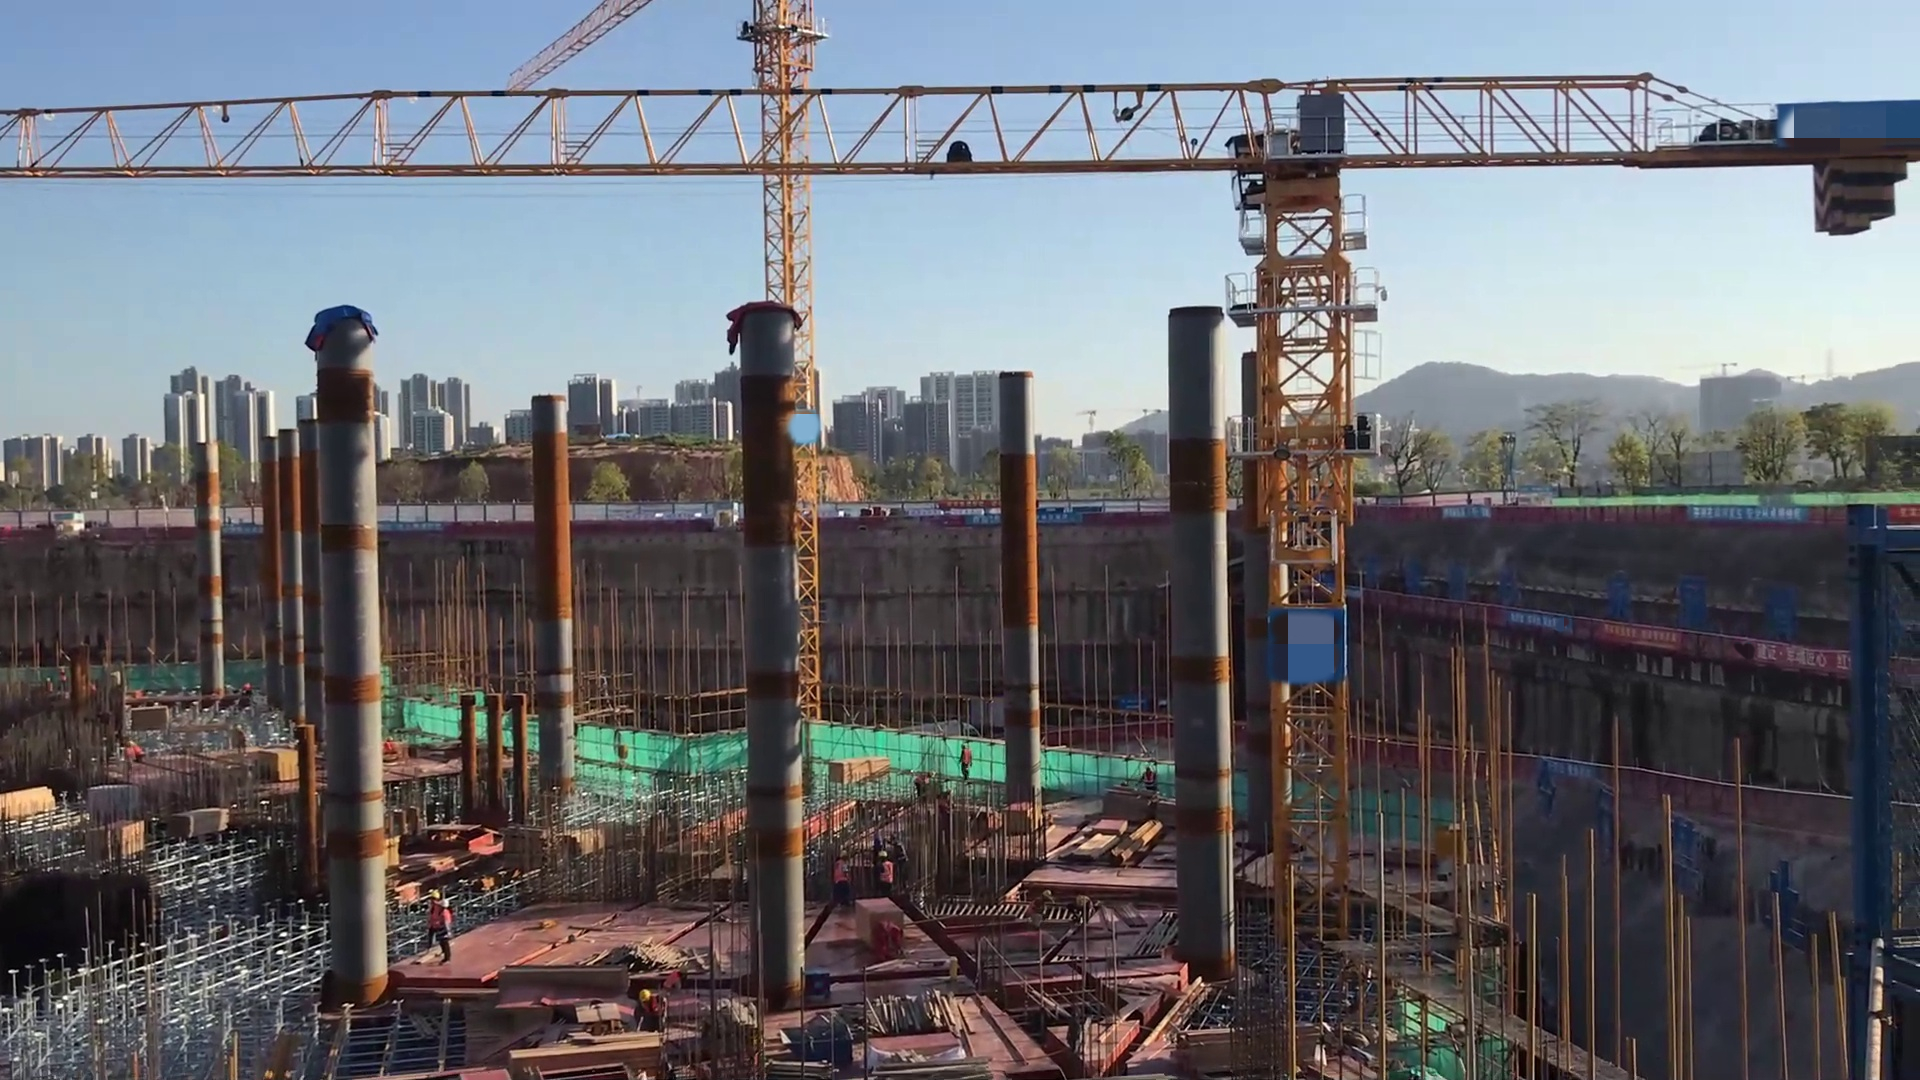board: (259, 746, 301, 785)
helmet: (637, 987, 654, 1006), (437, 897, 451, 911), (876, 849, 890, 861), (429, 889, 439, 904), (839, 849, 850, 862), (677, 966, 689, 979)
hook: (788, 1012, 855, 1066)
person: (636, 986, 670, 1041), (834, 847, 858, 914), (872, 920, 906, 960), (1138, 758, 1162, 814), (874, 847, 898, 899), (424, 885, 442, 956), (437, 896, 453, 965), (662, 966, 694, 1001), (912, 765, 935, 802), (957, 741, 976, 782), (129, 737, 147, 766), (382, 733, 397, 761), (123, 741, 136, 770)
slogan: (1758, 637, 1853, 676), (1423, 495, 1502, 537), (1684, 504, 1806, 527), (1595, 621, 1680, 652), (1506, 604, 1568, 637), (375, 515, 441, 540), (221, 518, 267, 541), (1033, 509, 1081, 528), (966, 511, 1000, 527)
vest: (640, 994, 670, 1022), (834, 860, 849, 889), (663, 969, 683, 992), (880, 860, 896, 888), (440, 910, 452, 941), (1142, 770, 1158, 791), (962, 749, 971, 766)
wood: (1174, 1011, 1328, 1067), (1, 782, 63, 830), (164, 804, 237, 844), (821, 752, 900, 787)
